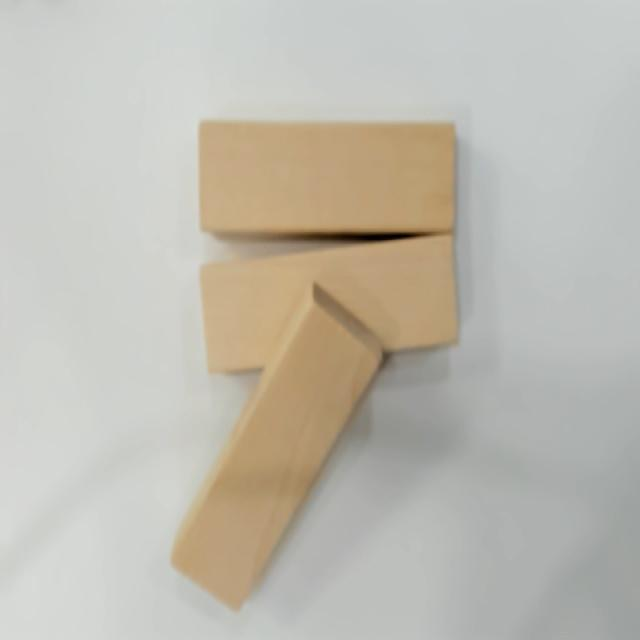Jenga: (167, 278, 387, 615), (197, 235, 461, 378), (197, 120, 459, 236)
